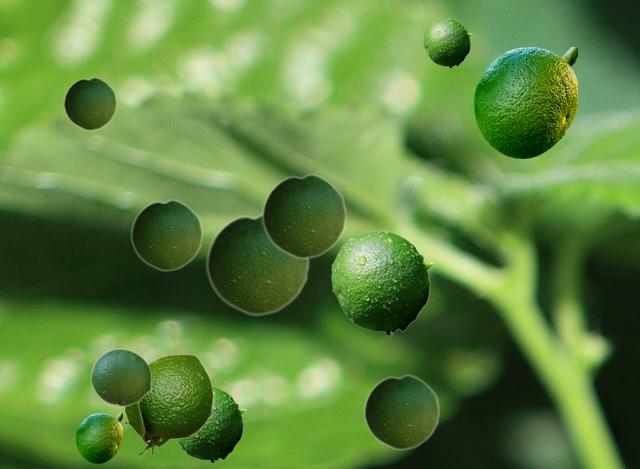dalandan: (474, 47, 576, 157), (205, 212, 309, 316), (331, 230, 433, 335), (123, 354, 212, 455), (261, 173, 346, 259), (363, 373, 439, 450), (176, 385, 245, 462), (130, 198, 202, 271), (90, 348, 151, 406), (63, 76, 116, 130), (423, 18, 471, 67), (76, 413, 121, 462)
